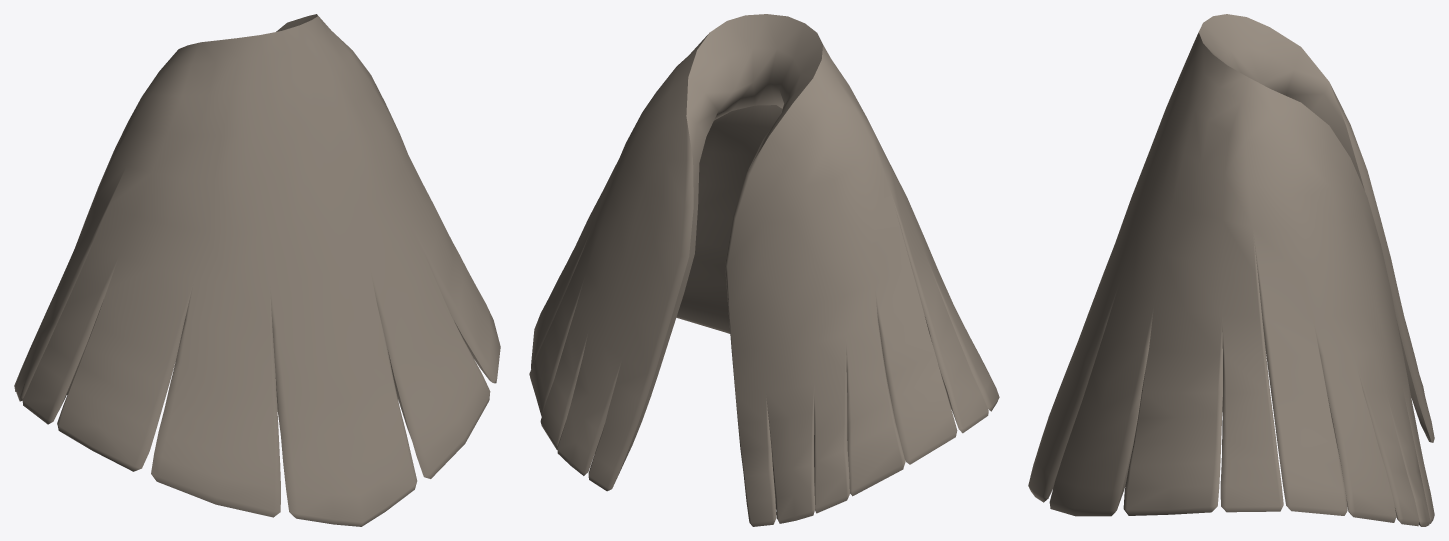
The model's file is CharSkyKid_Wing_ClassicOne_Default.glb.
3 renders of one model, left to right at view 1: azimuth 30°, elevation 25°; view 2: azimuth 150°, elevation 25°; view 3: azimuth 270°, elevation 25°, orthographic. The views are drawn at different scales.
Visible parts, largest first — view 1: Opaque; view 2: Opaque; view 3: Opaque.
Part boxes in pixels (bbox=[...]): Opaque: bbox=[14, 14, 500, 526]; Opaque: bbox=[529, 14, 999, 526]; Opaque: bbox=[1028, 14, 1434, 526].
Bounding box in the file's own units: 7.33 × 6.93 × 5.56.
1 material, 1 textured.
